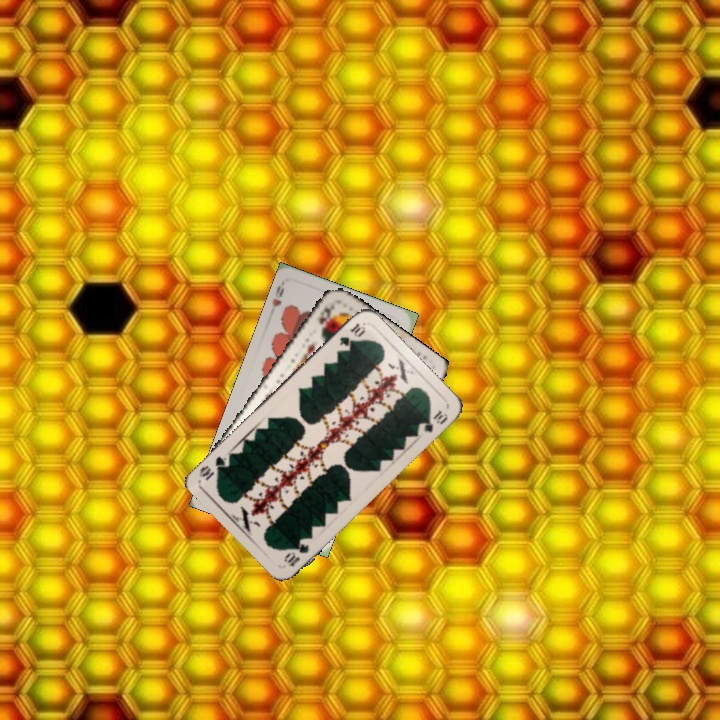G10: (280, 538, 312, 569), (335, 319, 368, 349)
H9: (266, 279, 287, 318)
SK: (314, 299, 337, 333)
